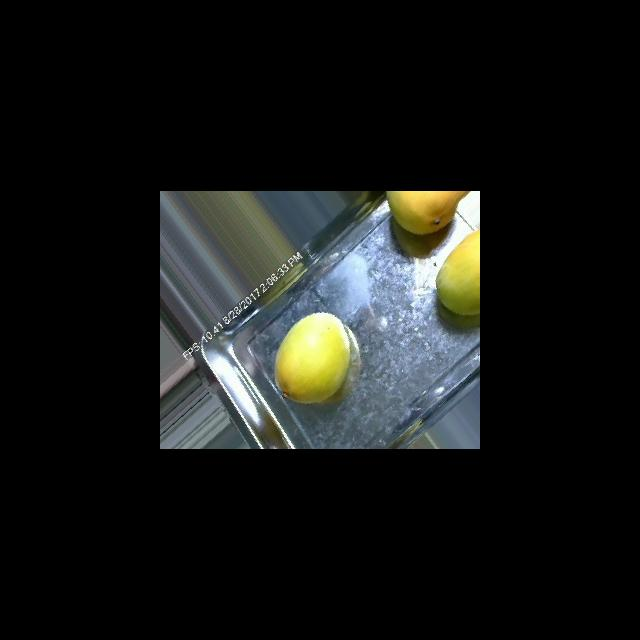Mango: (274, 311, 351, 404), (435, 223, 479, 316), (384, 191, 476, 235)
